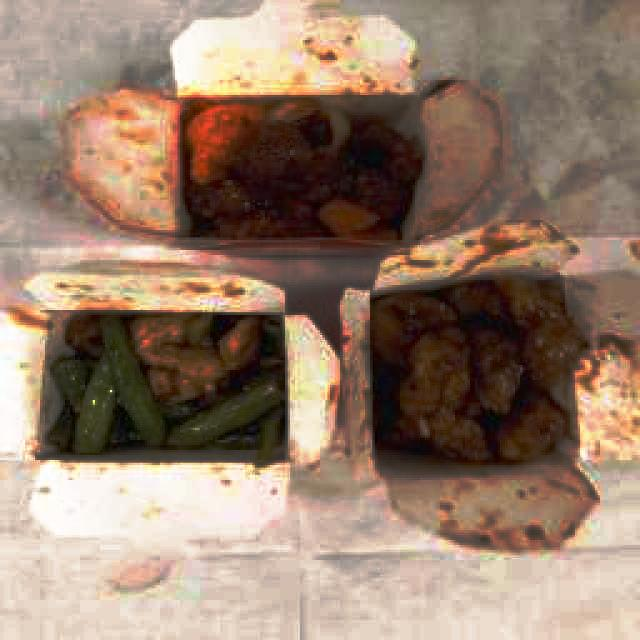Beijing Beef: (180, 95, 417, 239)
Kung Pao Chicken: (370, 270, 570, 465)
String Bean Chicken Breast: (49, 314, 286, 465)
